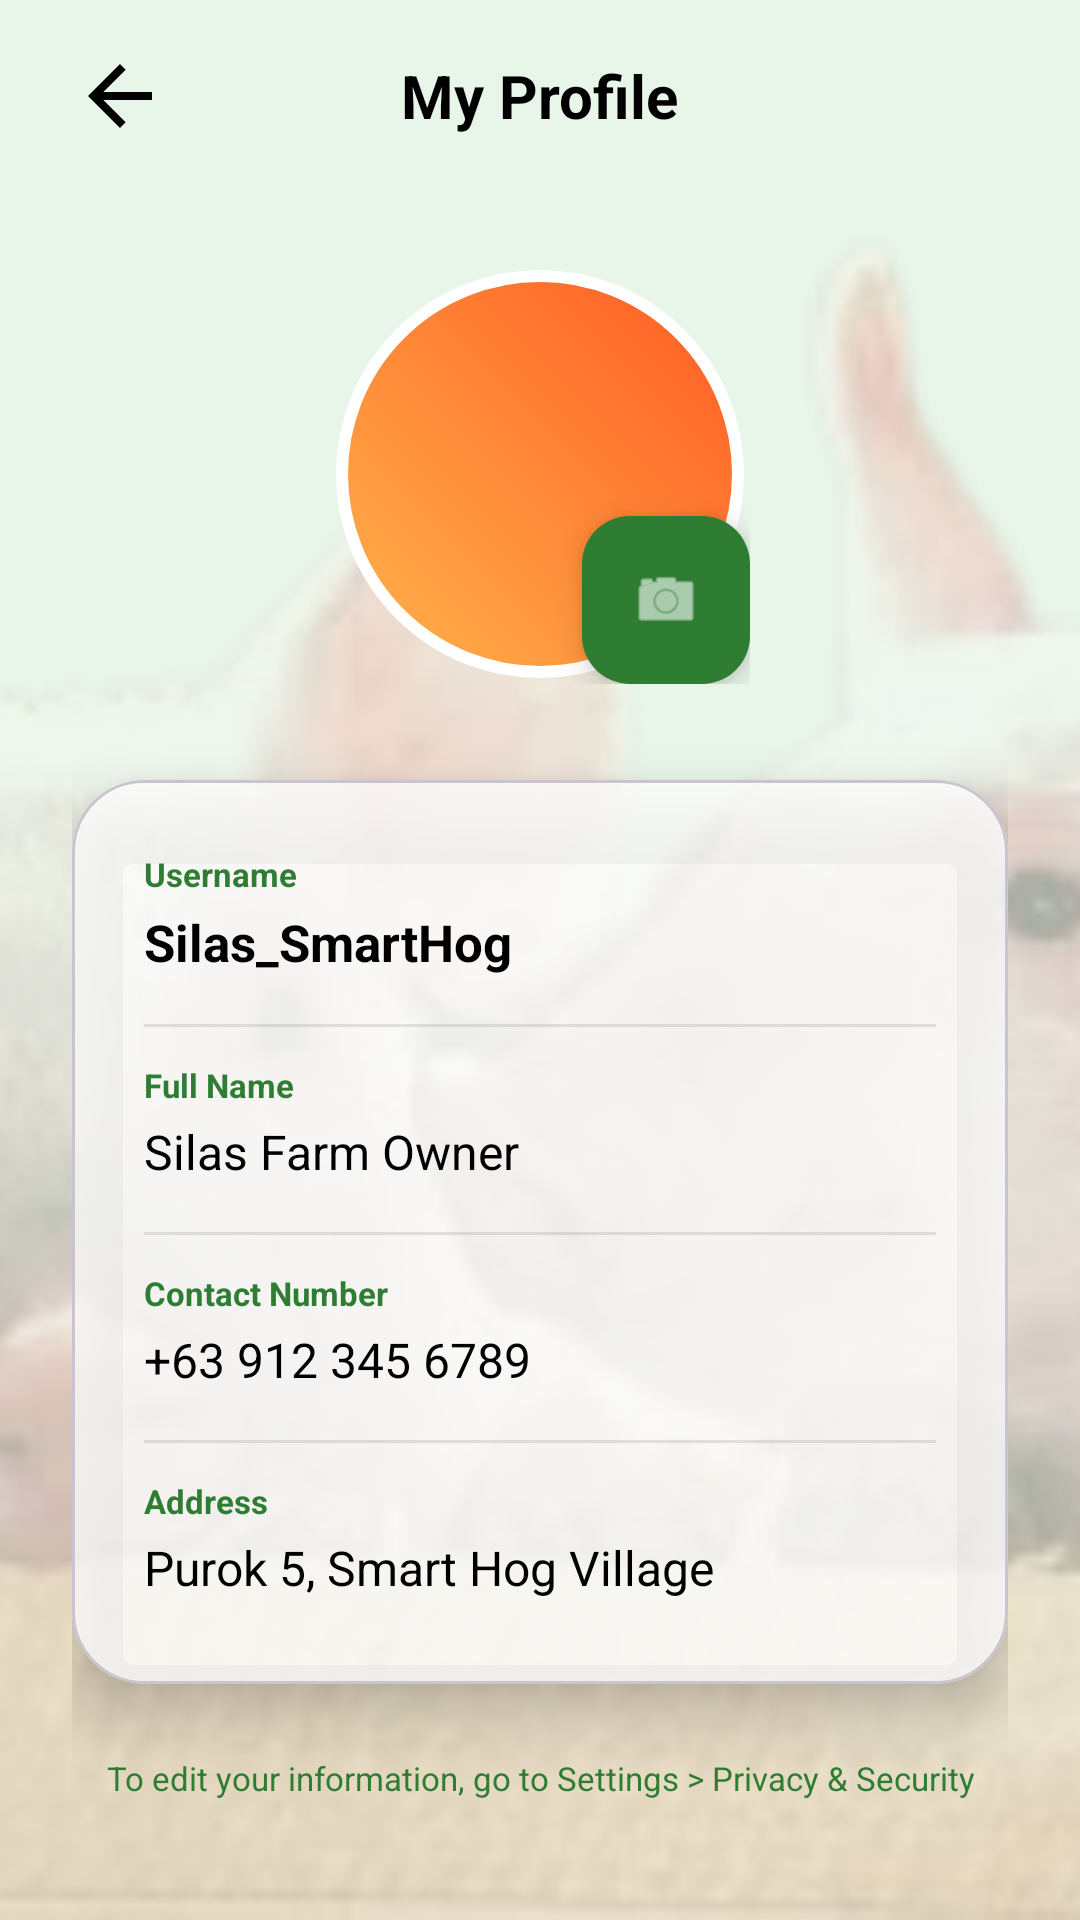

Icons on this 1080w x 1920h Android screen, each with the point to tap as (x,y):
back arrow: (120,96)
camera: (666,600)
